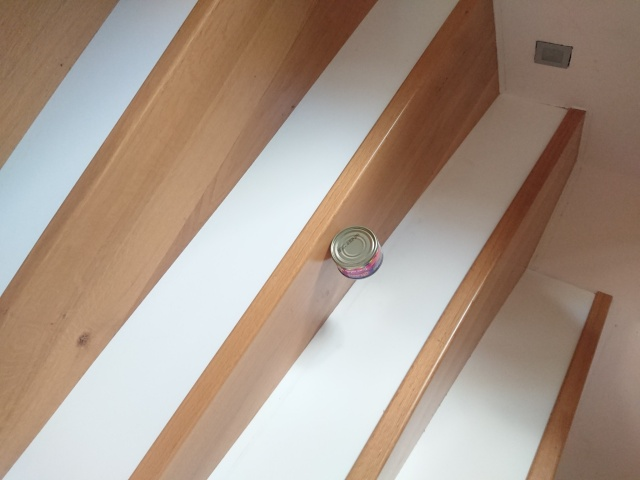Giana Tuna Salad Mexico 185g: (328, 224, 386, 281)
